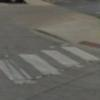crosswalks: (0, 45, 99, 86)
